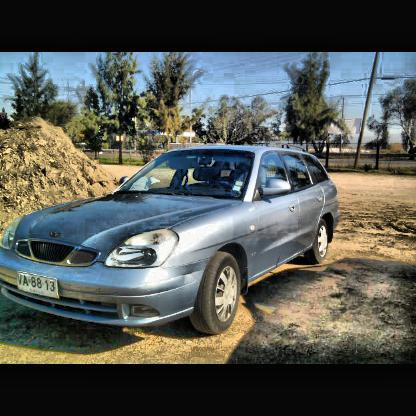Daewoo Nubira Wagon 2002: (2, 147, 338, 338)
